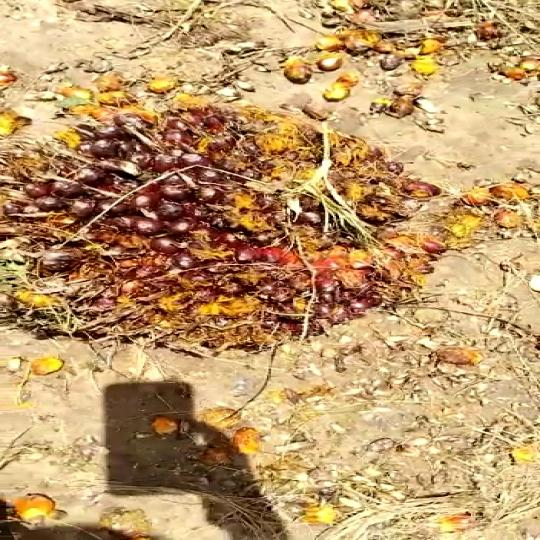masak: (0, 86, 464, 356)
